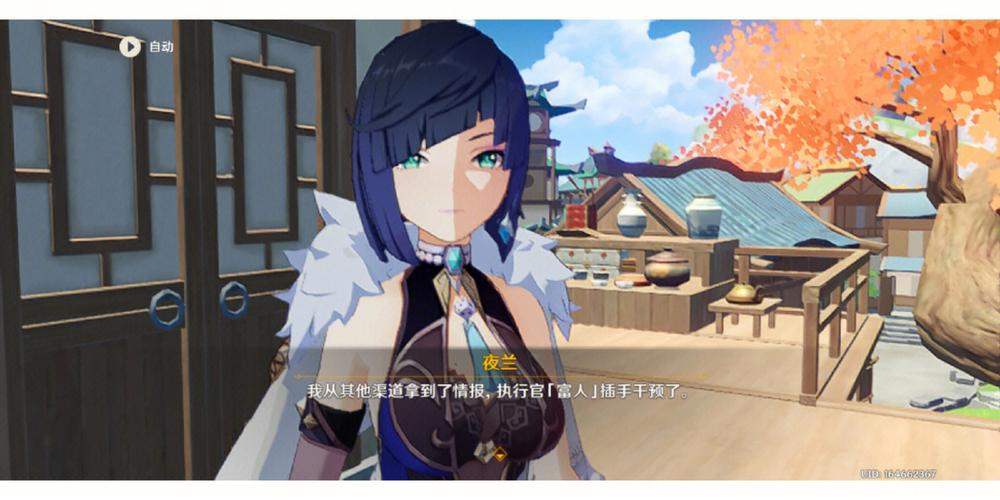夜兰: (278, 23, 595, 478)
